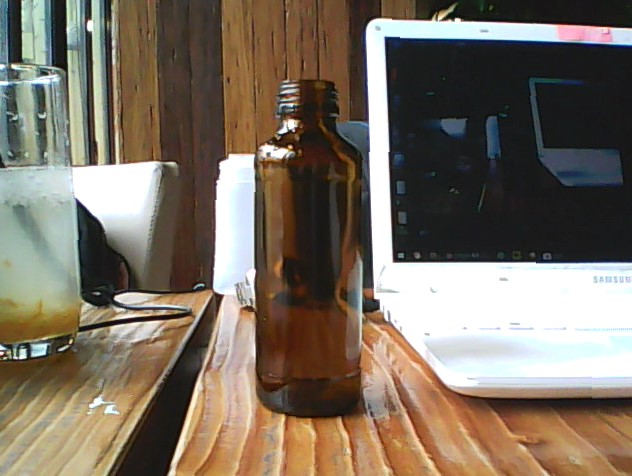Glass: (251, 77, 369, 422)
